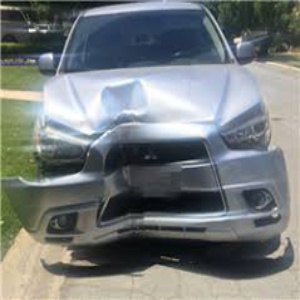bonnet: (37, 73, 214, 128)
bumper: (2, 167, 235, 247)
